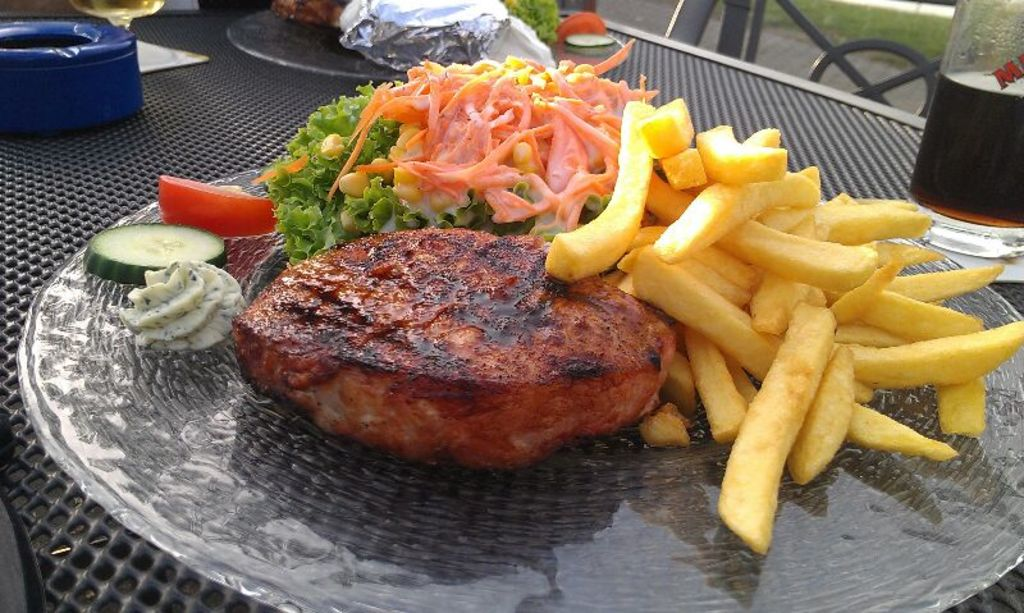French fries: (602, 87, 961, 515)
